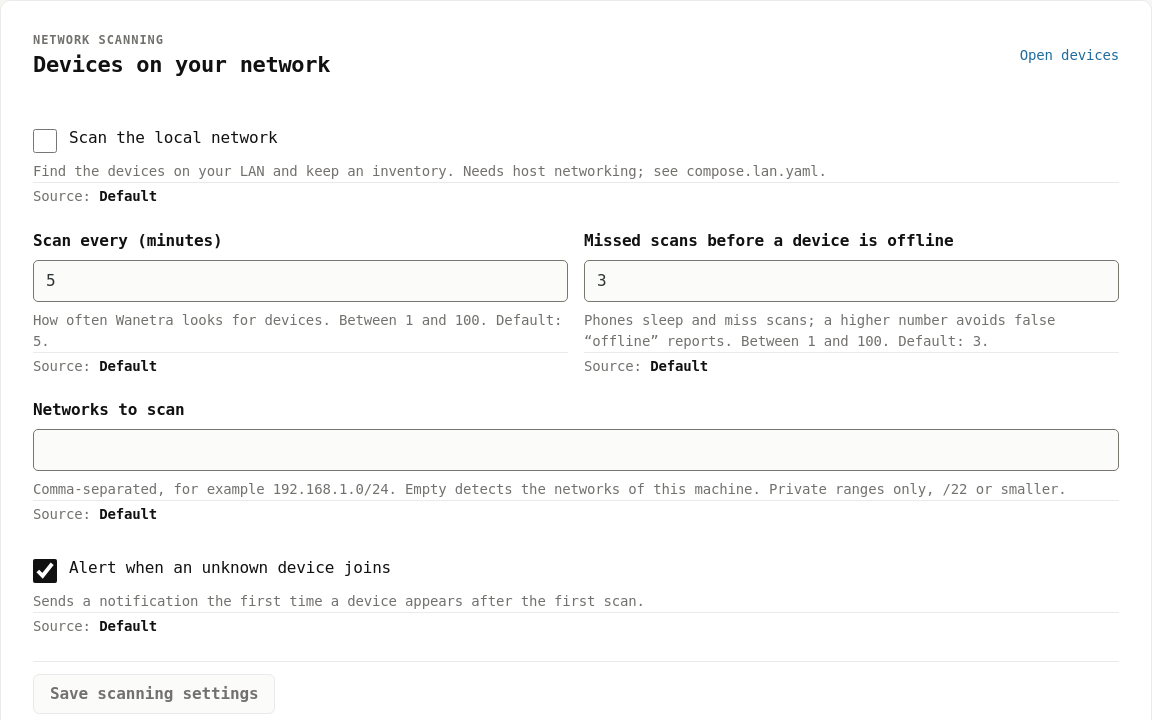
Test: network scanning settings › shows the server message when the networks are refused
Type "8.8.8.0/24" into the field labelled "Networks to scan" at coordinates (576, 450), box [33,429,1119,471]
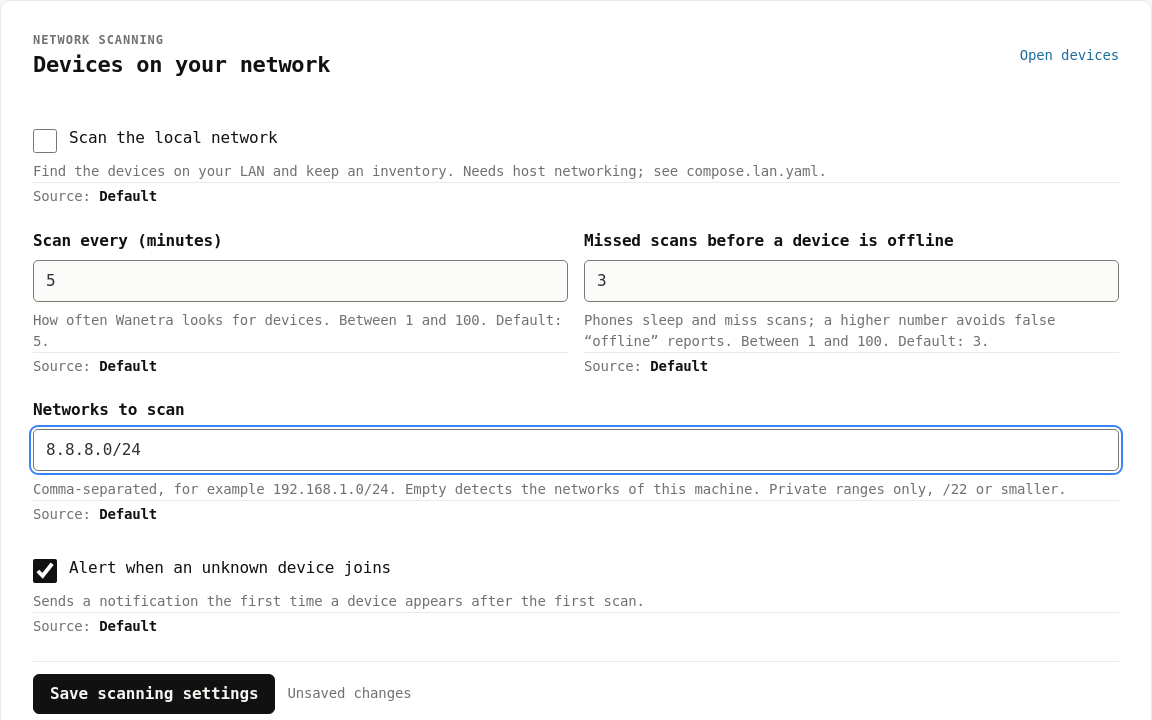
Click the button "Save scanning settings" at coordinates (154, 694), box [33,674,275,714]
(page scrolled)
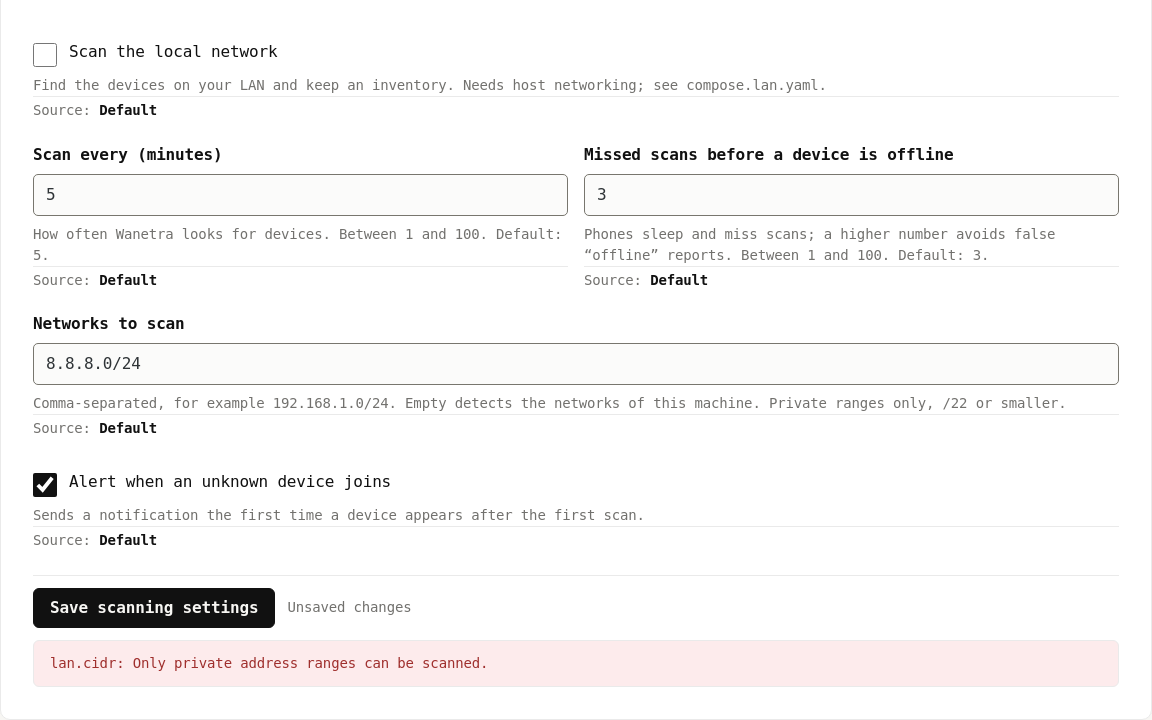
Expected: the message shows "Only private address ranges", [50,655,488,671]
